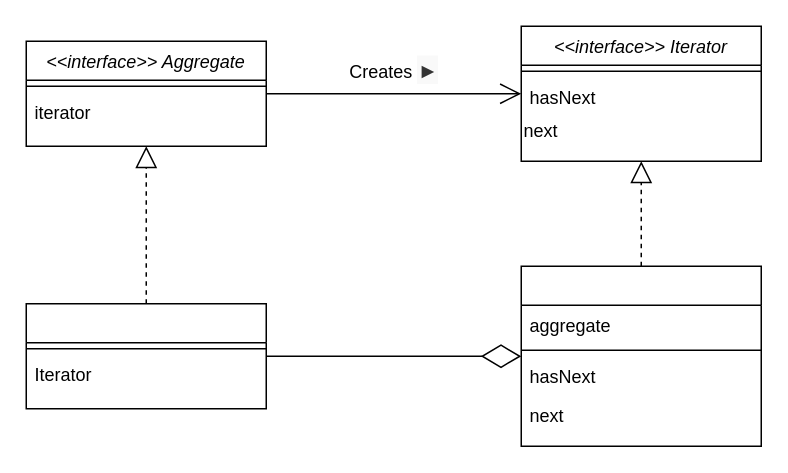
The diagram is 788 pixels wide and 473 high, and some of its shapes have lost their labels. The shapes that lost their labels are listed below. From the top down, each one's box as (x1, y1, x2, y2) in pixels, then its label:
(25, 302, 266, 409): ConcreteAggregate
(520, 265, 761, 446): ConcreteIterator
